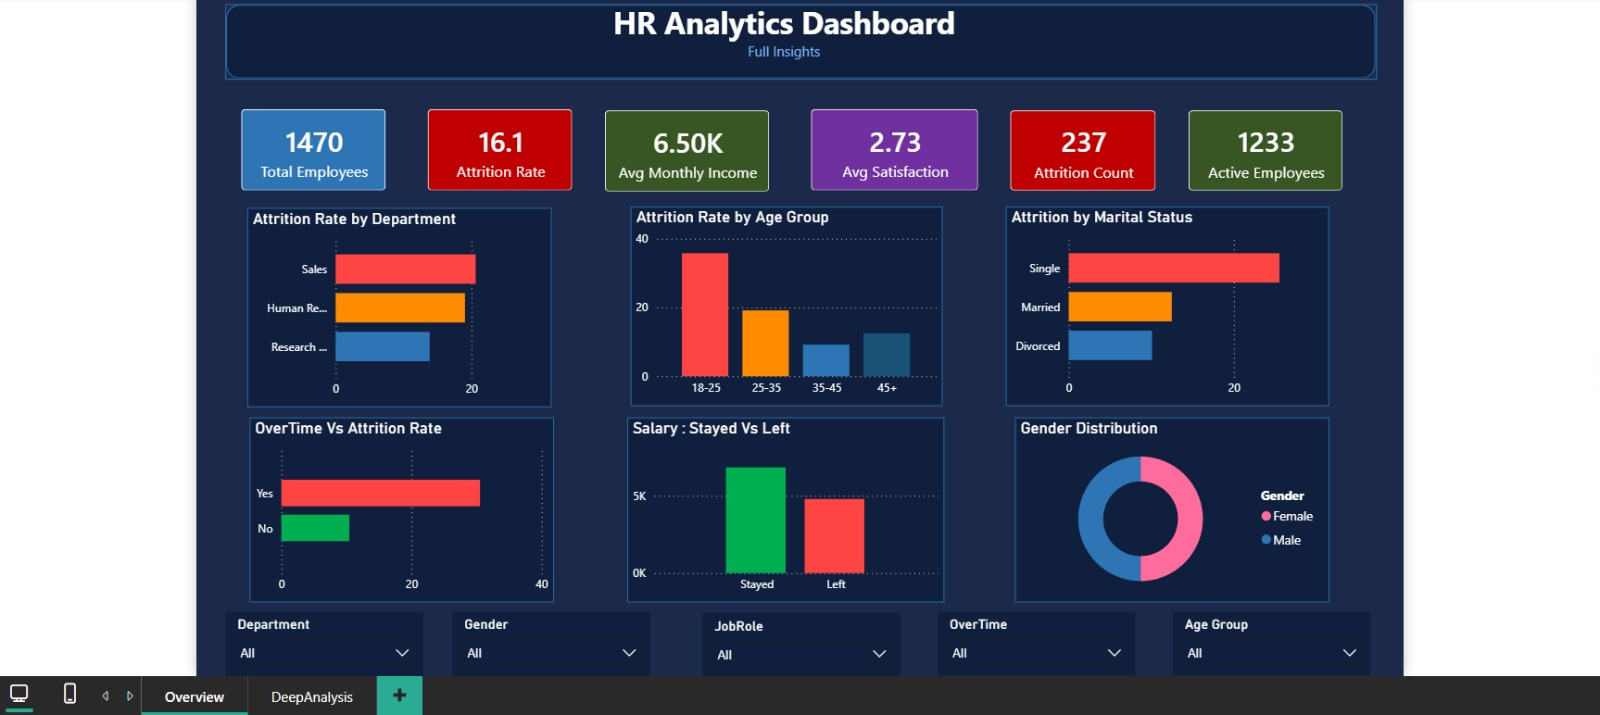

Layout of this report page (visuals, bound fields, positions):
{"tool":"powerbi","page":{"name":"Overview","canvas":[1280,720],"ordinal":0},"visuals":[{"type":"shape","box":[30.7,7.4,1219.6,79.8],"z":1000},{"type":"textbox","box":[416,0,413.5,94.5],"z":2000},{"type":"cardVisual","fields":{"Data":["Data.Total Employees"]},"box":[30.7,101.8,187.7,120.2],"z":3000},{"type":"cardVisual","fields":{"Data":["Data.Attrition Rate"]},"box":[228.2,101.8,187.7,120.2],"z":4000},{"type":"cardVisual","fields":{"Data":["Data.Avg Monthly Income"]},"box":[416,103.1,208.6,120.2],"z":5000},{"type":"cardVisual","fields":{"Data":["Data.Avg Satisfaction"]},"box":[634.4,101.8,211,120.2],"z":6000},{"type":"barChart","fields":{"Y":["Data.Attrition Rate"],"Category":["Data.Department"]},"box":[54,223.3,322.7,211],"z":7000},{"type":"donutChart","title":"Gender Distribution","fields":{"Category":["Data.Gender"],"Y":["Count(Data.Gender)"]},"box":[867.5,445.4,332.5,196.3],"z":8000},{"type":"barChart","title":"OverTime Vs Attrition Rate","fields":{"Category":["Data.OverTime"],"Y":["Data.Attrition Rate"]},"box":[56.4,445.4,322.7,196.3],"z":9000},{"type":"clusteredColumnChart","title":"Salary : Stayed Vs Left","fields":{"Category":["Data.Attrition"],"Y":["Data.Avg Monthly Income"]},"box":[456.4,445.4,336.2,196.3],"z":10000},{"type":"clusteredColumnChart","title":"Attrition Rate by Age Group","fields":{"Y":["Data.Attrition Rate"],"Category":["Data.Age Bucket"]},"box":[460.1,222.1,330.1,211],"z":11000},{"type":"slicer","fields":{"Values":["Data.Department"]},"box":[30.7,651.5,209.8,68.7],"z":12000},{"type":"slicer","fields":{"Values":["Data.Gender"]},"box":[271.2,651.5,209.8,68.7],"z":13000},{"type":"slicer","fields":{"Values":["Data.JobRole"]},"box":[536.2,652.8,209.8,67.5],"z":14000},{"type":"slicer","fields":{"Values":["Data.OverTime"]},"box":[785.3,651.5,209.8,67.5],"z":15000},{"type":"slicer","fields":{"Values":["Data.Age Bucket"]},"box":[1034.4,651.5,209.8,67.5],"z":16000},{"type":"cardVisual","fields":{"Data":["Data.Attrition Count"]},"box":[845.4,103.1,189,119],"z":17000},{"type":"cardVisual","fields":{"Data":["Data.Active Employees"]},"box":[1034.4,103.1,197.5,119],"z":18000},{"type":"barChart","title":"Attrition by Marital Status","fields":{"Category":["Data.MaritalStatus"],"Y":["Data.Attrition Rate"]},"box":[857.7,222.1,342.3,211],"z":19000}]}

Visuals, with their boxes on the page's 1280x720 design canvas (x1, y1, x2, y2). These are canvas units, not pixel positions in the 1600x715 screenshot, which may show the page scaled, cropped or inside an application window:
shape: 31, 7, 1250, 87
textbox: 416, 0, 830, 94
cardVisual - Data.Total Employees: 31, 102, 218, 222
cardVisual - Data.Attrition Rate: 228, 102, 416, 222
cardVisual - Data.Avg Monthly Income: 416, 103, 625, 223
cardVisual - Data.Avg Satisfaction: 634, 102, 845, 222
barChart - Data.Attrition Rate x Data.Department: 54, 223, 377, 434
"Gender Distribution" donutChart: 868, 445, 1200, 642
"OverTime Vs Attrition Rate" barChart: 56, 445, 379, 642
"Salary : Stayed Vs Left" clusteredColumnChart: 456, 445, 793, 642
"Attrition Rate by Age Group" clusteredColumnChart: 460, 222, 790, 433
slicer - Data.Department: 31, 652, 240, 720
slicer - Data.Gender: 271, 652, 481, 720
slicer - Data.JobRole: 536, 653, 746, 720
slicer - Data.OverTime: 785, 652, 995, 719
slicer - Data.Age Bucket: 1034, 652, 1244, 719
cardVisual - Data.Attrition Count: 845, 103, 1034, 222
cardVisual - Data.Active Employees: 1034, 103, 1232, 222
"Attrition by Marital Status" barChart: 858, 222, 1200, 433
